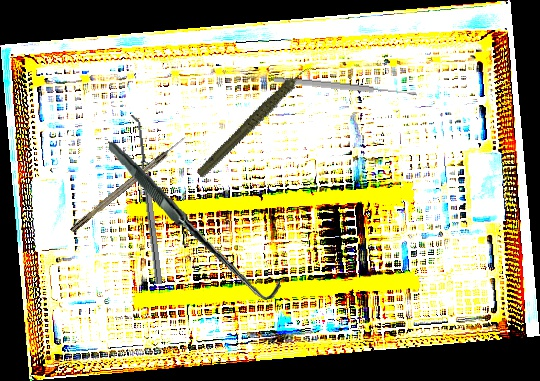Handpiece: (179, 63, 334, 180)
Hook Surgical: (108, 126, 282, 313), (68, 134, 189, 234)
Spatula Surgical: (128, 113, 163, 286)
Surgical Spoon: (272, 75, 418, 99)
